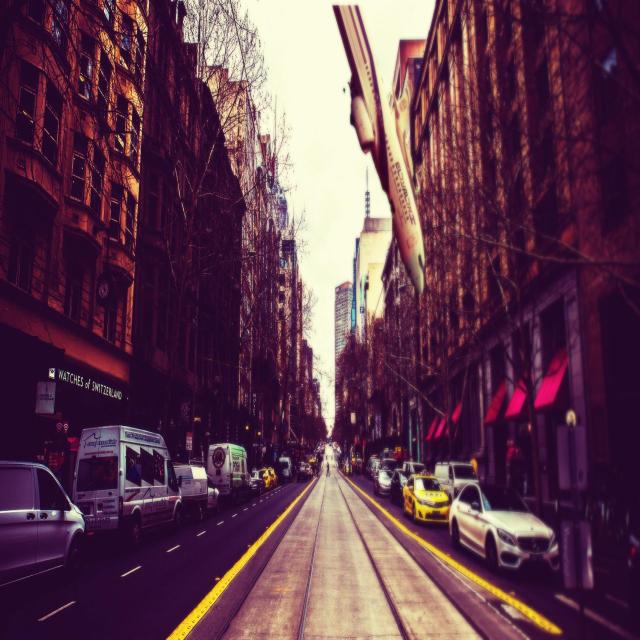airplane: (331, 3, 426, 297)
